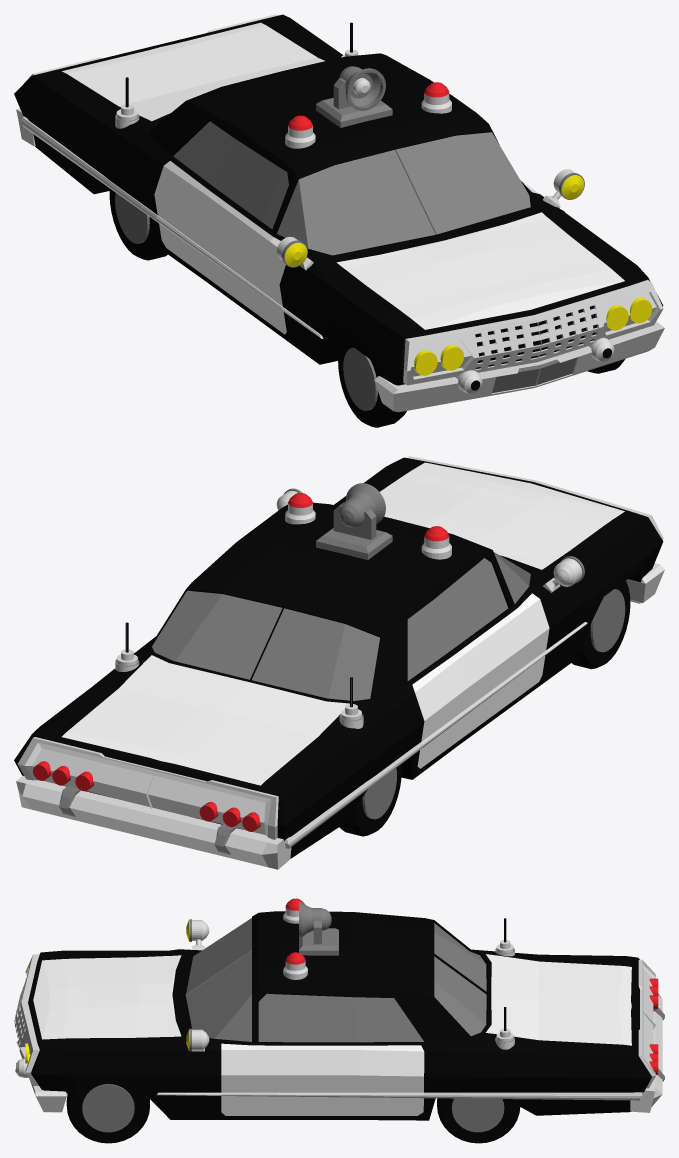
The model's file is Politsia.fbx.
The picture shows the model from 3 angles, top to bottom: view 1: azimuth 30°, elevation 25°; view 2: azimuth 150°, elevation 25°; view 3: azimuth 270°, elevation 25°; orthographic projection. The views are drawn at different scales.
Visible parts, largest first — view 1: Cube, Cylinder; view 2: Cube, Cylinder; view 3: Cube, Cylinder.
Boxes of the visible parts, bbox=[...] form: Cube: bbox=[14, 14, 664, 427]; Cylinder: bbox=[333, 66, 385, 110]; Cube: bbox=[14, 456, 664, 869]; Cylinder: bbox=[333, 483, 385, 539]; Cube: bbox=[14, 898, 664, 1143]; Cylinder: bbox=[299, 901, 331, 944].
Size of the model in its own units: 145 by 110 by 335.
